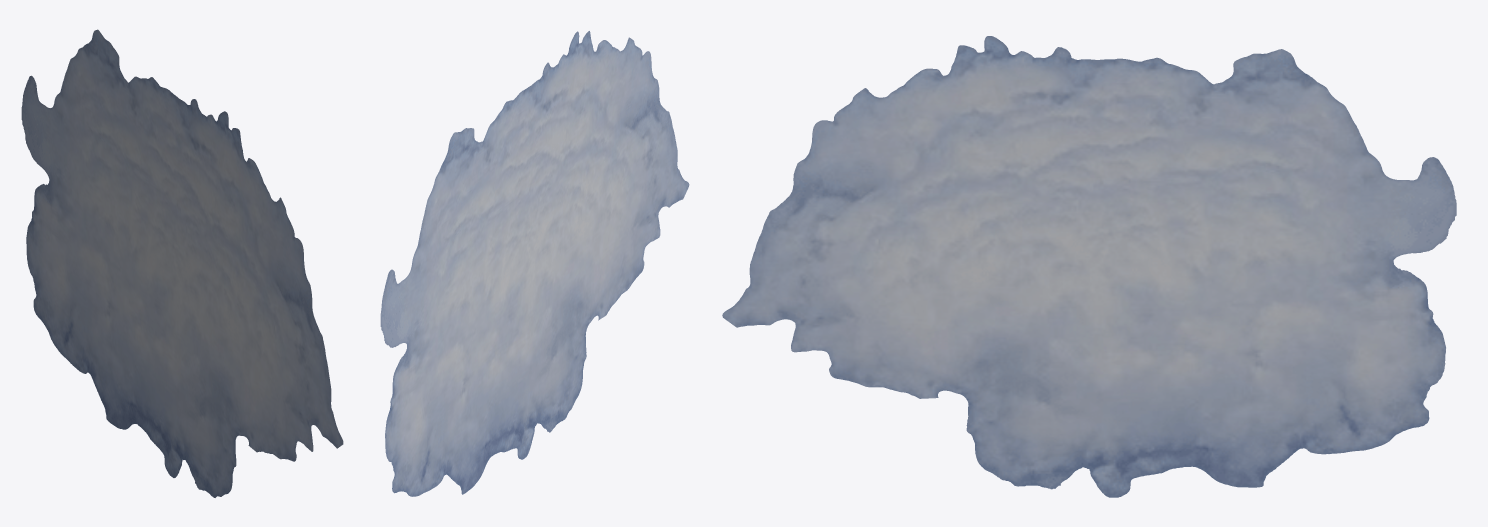
Rendered from flatcloudfbx.fbx.
3 renders of one model, left to right at view 1: azimuth 30°, elevation 25°; view 2: azimuth 150°, elevation 25°; view 3: azimuth 270°, elevation 25°, orthographic. The views are drawn at different scales.
Visible parts, largest first — view 1: cloud; view 2: cloud; view 3: cloud.
Part boxes in pixels (x1,y1,x2,y2): cloud: (21, 29, 343, 497); cloud: (380, 31, 689, 496); cloud: (722, 36, 1456, 497).
Bounding box in the file's own units: 1.07e-07 × 0.9096 × 1.25.
1 material, 1 textured.
